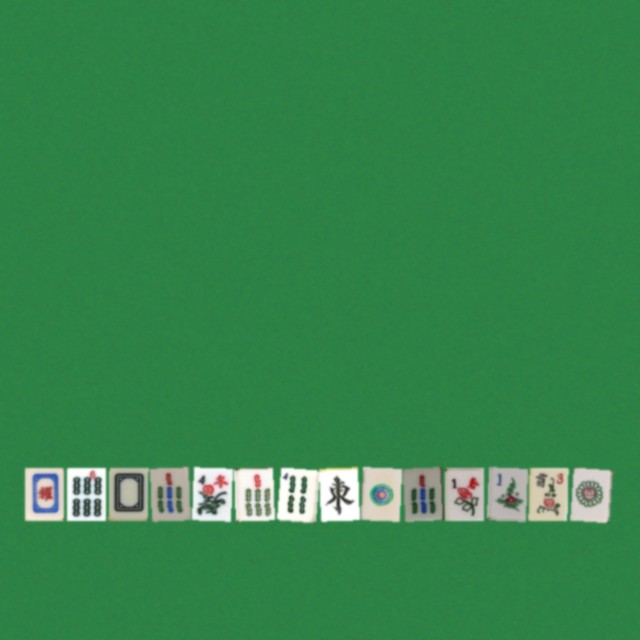tile: (24, 467, 63, 520), (66, 467, 105, 520), (108, 467, 147, 520), (150, 467, 189, 520), (192, 467, 231, 520), (234, 467, 273, 520), (276, 467, 315, 520), (318, 467, 357, 520), (360, 467, 399, 520), (402, 467, 441, 520), (444, 467, 483, 520), (486, 467, 525, 520), (528, 467, 567, 520), (570, 467, 609, 520)
